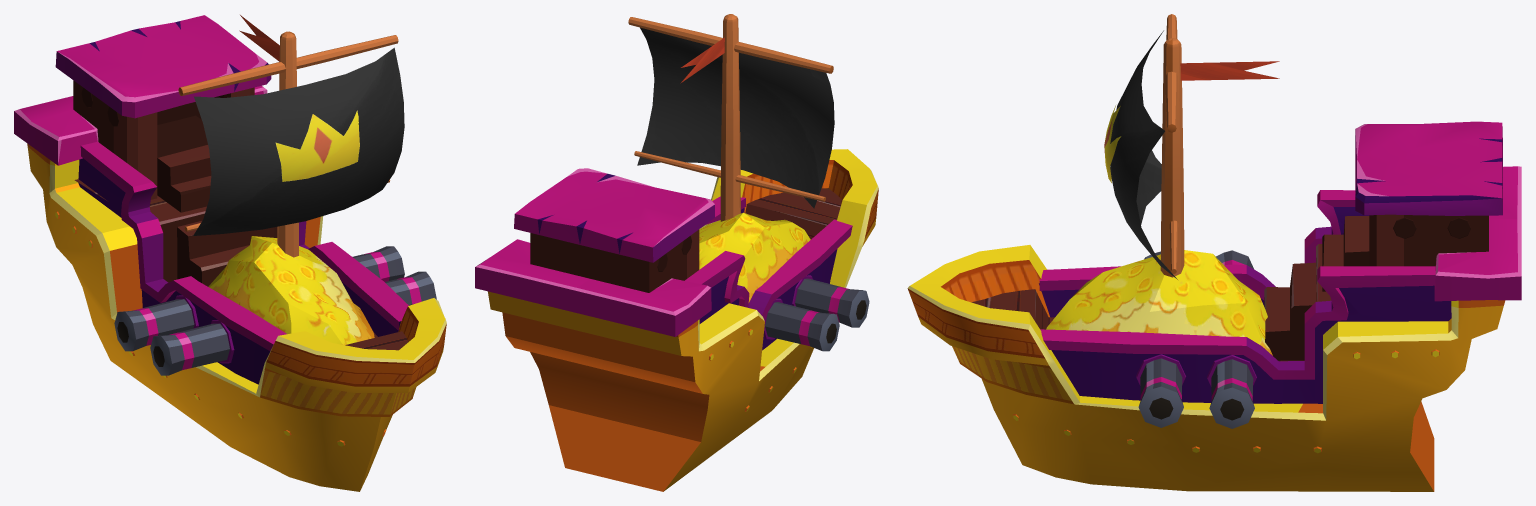
The model's file is Sea_VIP_L_GoldShip_B.fbx.
The picture shows the model from 3 angles, left to right: view 1: azimuth 30°, elevation 25°; view 2: azimuth 150°, elevation 25°; view 3: azimuth 270°, elevation 25°; orthographic projection. The views are drawn at different scales.
Parts seen in each view (by area): view 1: Color_05, Color_Cloth_01, Color_02, Color_01, Color_04, Color_07, Color_03, Color_08; view 2: Color_05, Color_02, Color_Cloth_01, Color_01, Color_08, Color_04, Color_03, Color_07; view 3: Color_05, Color_04, Color_02, Color_07, Color_01, Color_Cloth_01, Color_03, Color_08.
Part boxes in pixels (x1,y1,x2,y2): Color_05: (27,143,446,491); Color_Cloth_01: (193,15,404,235); Color_02: (14,15,271,165); Color_01: (73,80,408,350); Color_04: (78,141,408,384); Color_07: (208,236,374,345); Color_03: (114,246,436,375); Color_08: (178,31,398,257); Color_05: (488,149,878,491); Color_02: (475,168,714,336); Color_Cloth_01: (637,27,834,208); Color_01: (530,188,841,292); Color_08: (628,14,833,221); Color_04: (684,196,852,350); Color_03: (764,275,869,351); Color_07: (699,212,810,302); Color_05: (907,245,1505,491); Color_04: (1039,190,1451,403); Color_02: (1355,121,1521,301); Color_07: (1046,250,1272,355); Color_01: (971,214,1488,361); Color_Cloth_01: (1104,30,1279,279); Color_03: (1136,250,1256,428); Color_08: (1160,14,1184,277).
Size of the model in its own units: 24.58 by 35.02 by 45.73.
